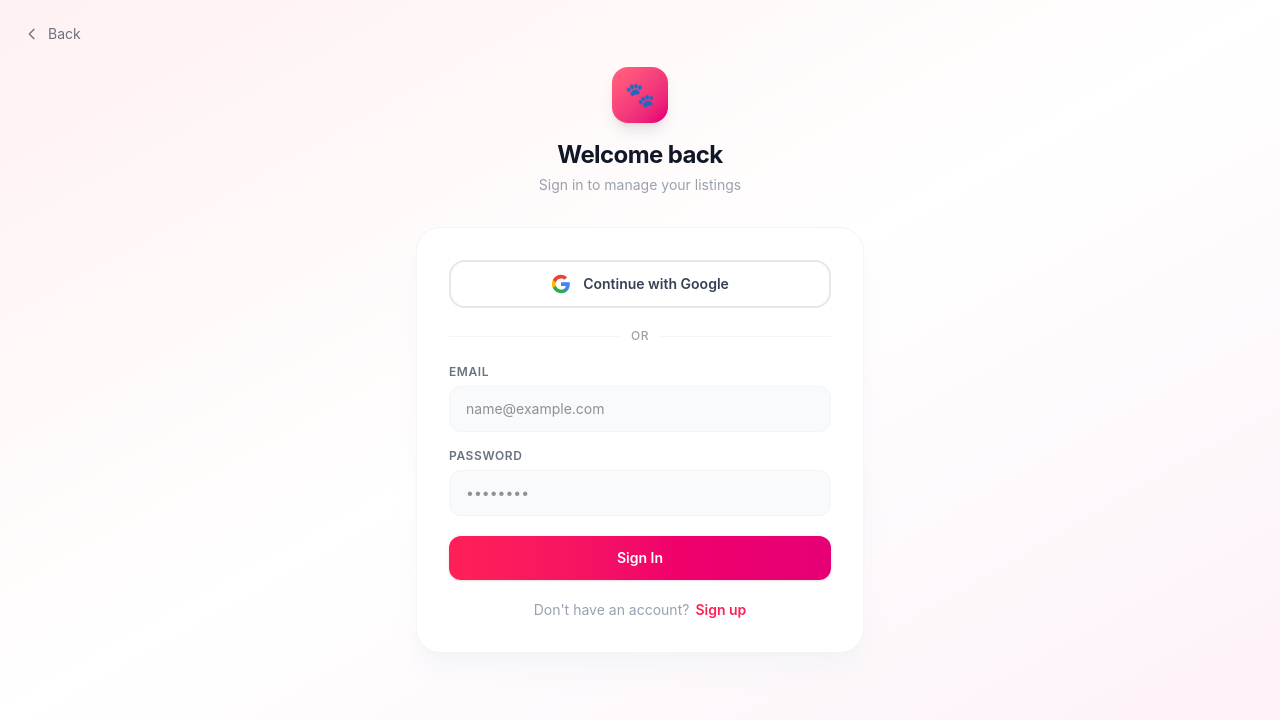
Test case: Login Page - Error Handling › Requirement 6.1: OAuth Provider Error Handling › should display user-friendly message when Google OAuth returns error
The image size is (1280, 720).
Click the button with aria-label "sign in with google". click: (640, 284)
box: [449, 260, 831, 308]
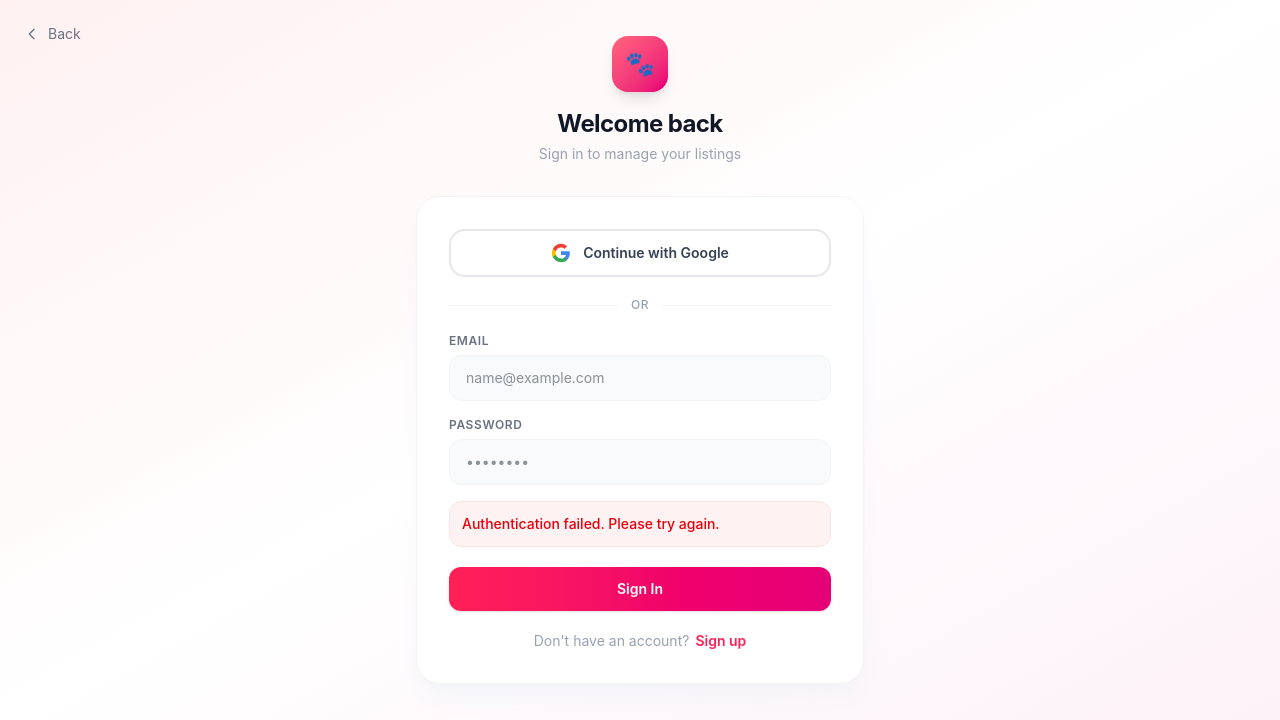
Expected: the text "Authentication failed. Please try again." is shown, [449, 501, 831, 547]
